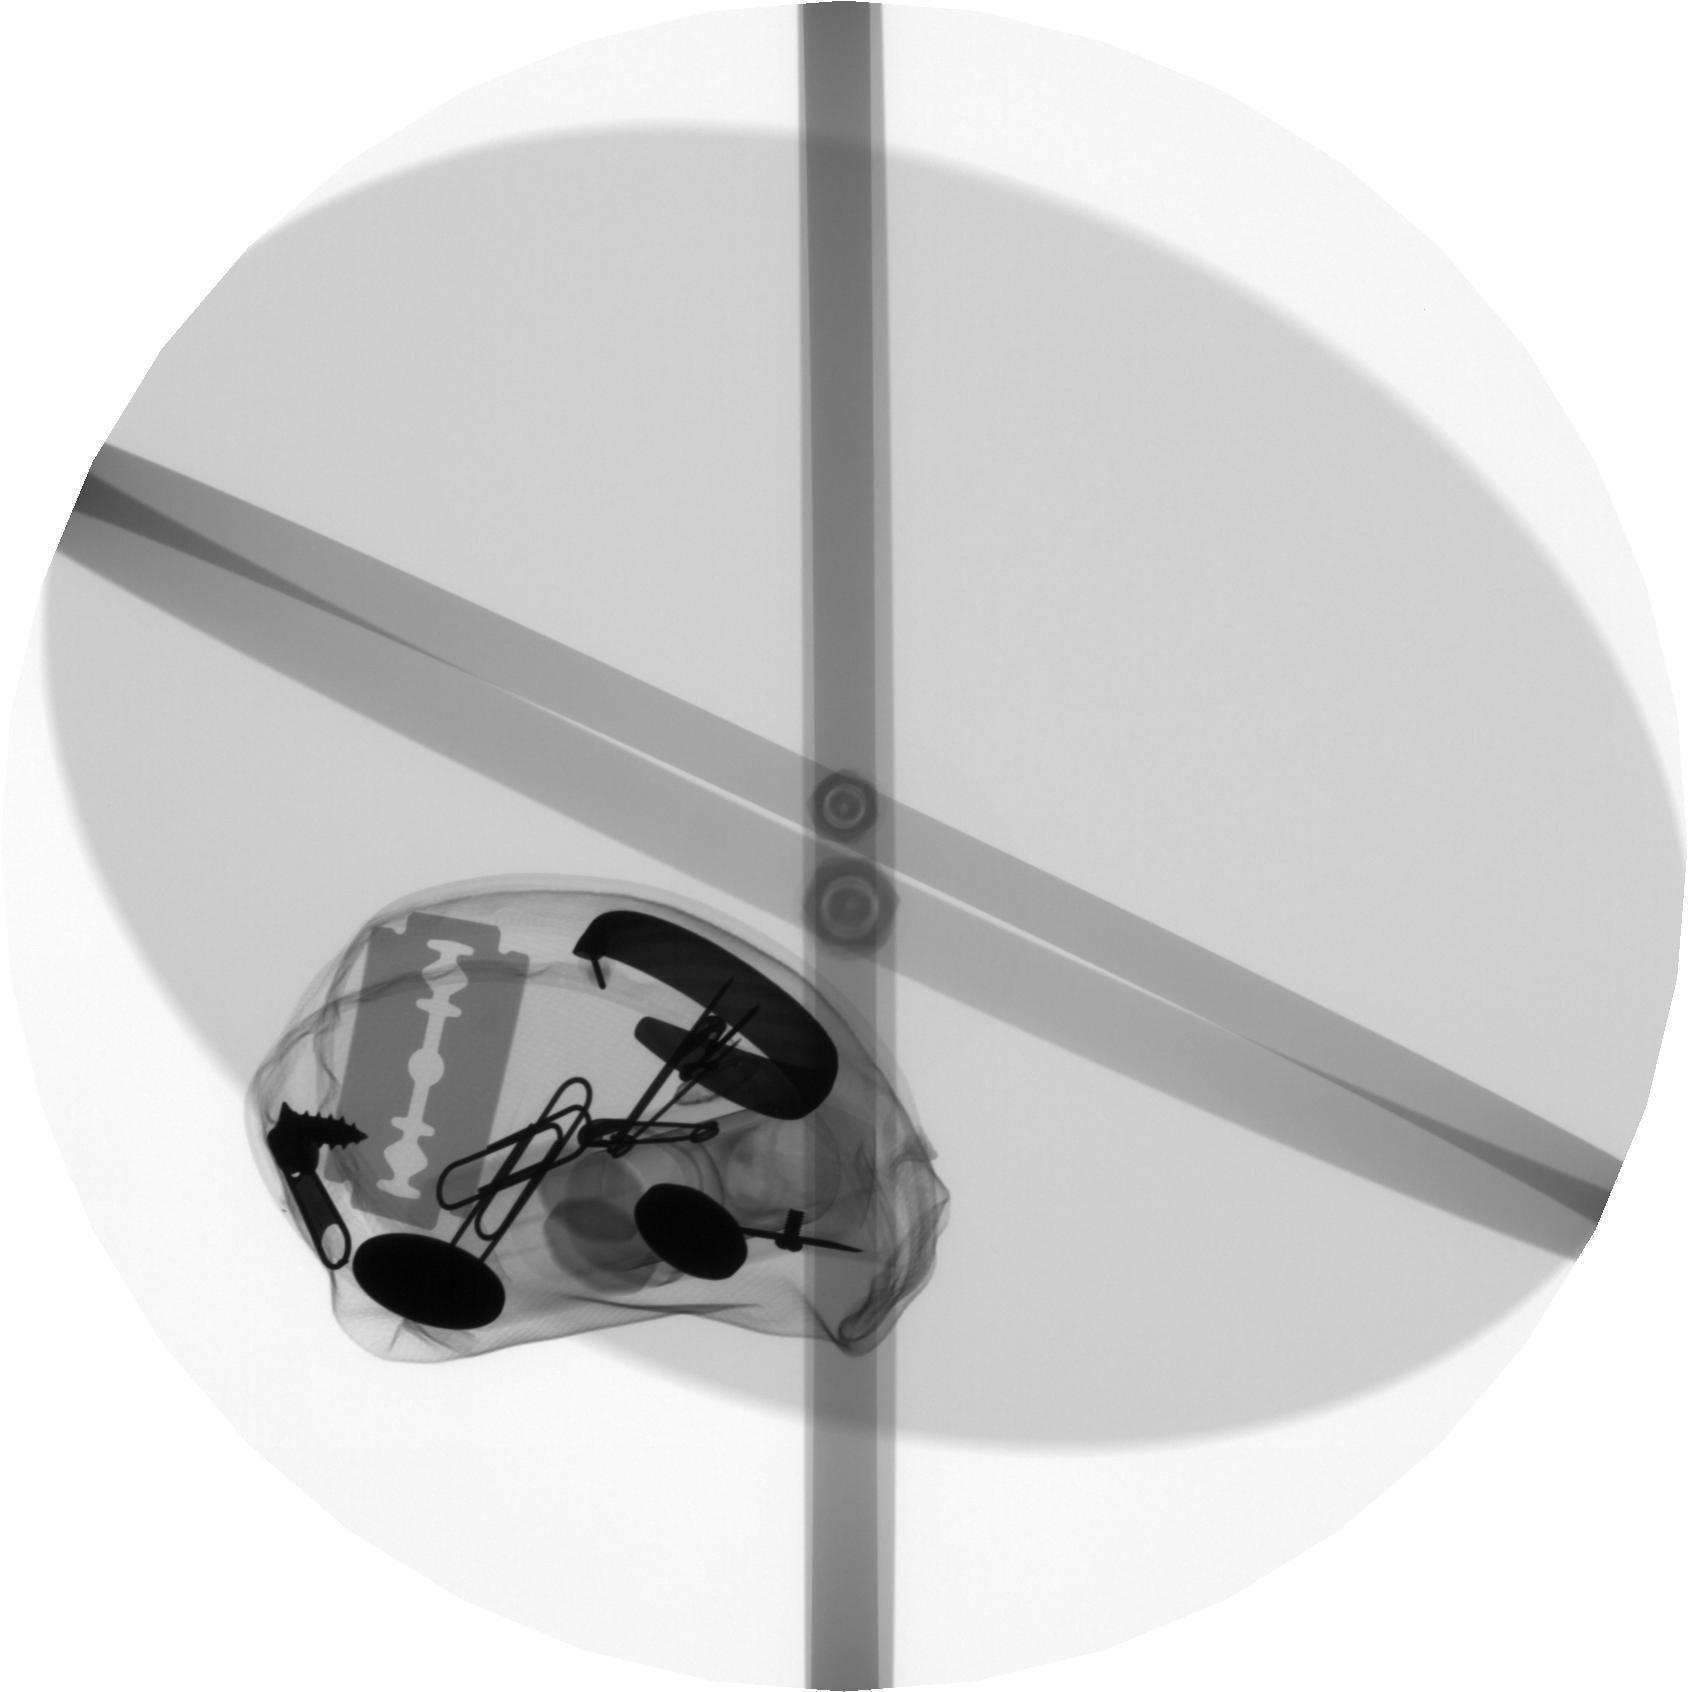RazorBlade: (318, 905, 539, 1238)
